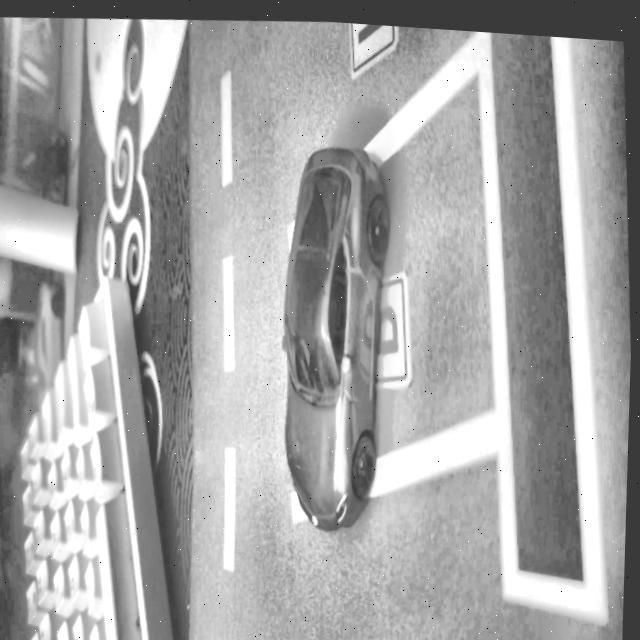car: (268, 134, 409, 531)
